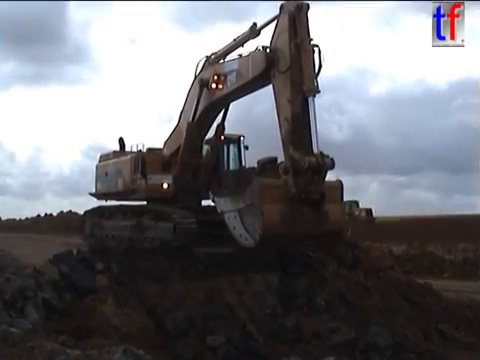excavator: (78, 1, 349, 257)
wheel loader: (290, 194, 378, 233)
